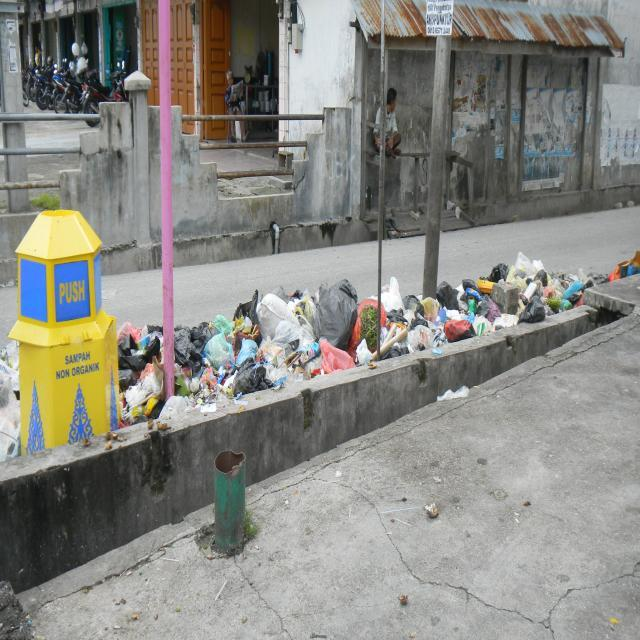garbage: (174, 248, 424, 394), (424, 238, 640, 360), (115, 313, 167, 427), (433, 376, 479, 406)
